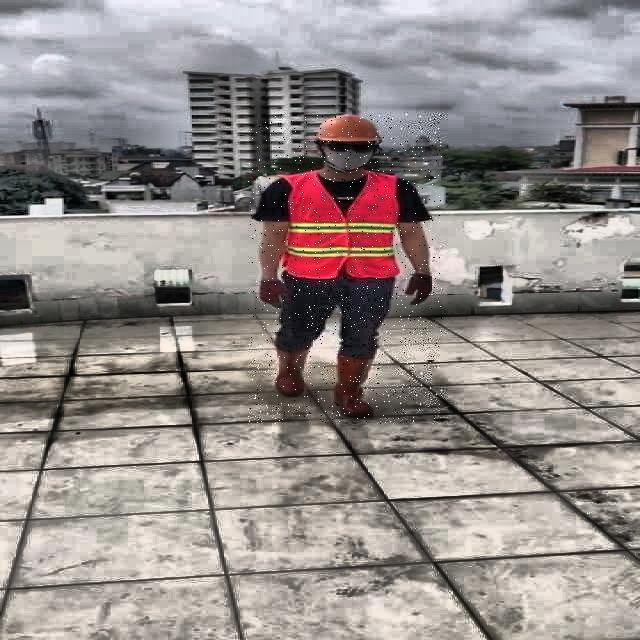safety_helmet: (310, 111, 383, 142)
safety_jacket: (276, 171, 400, 278)
